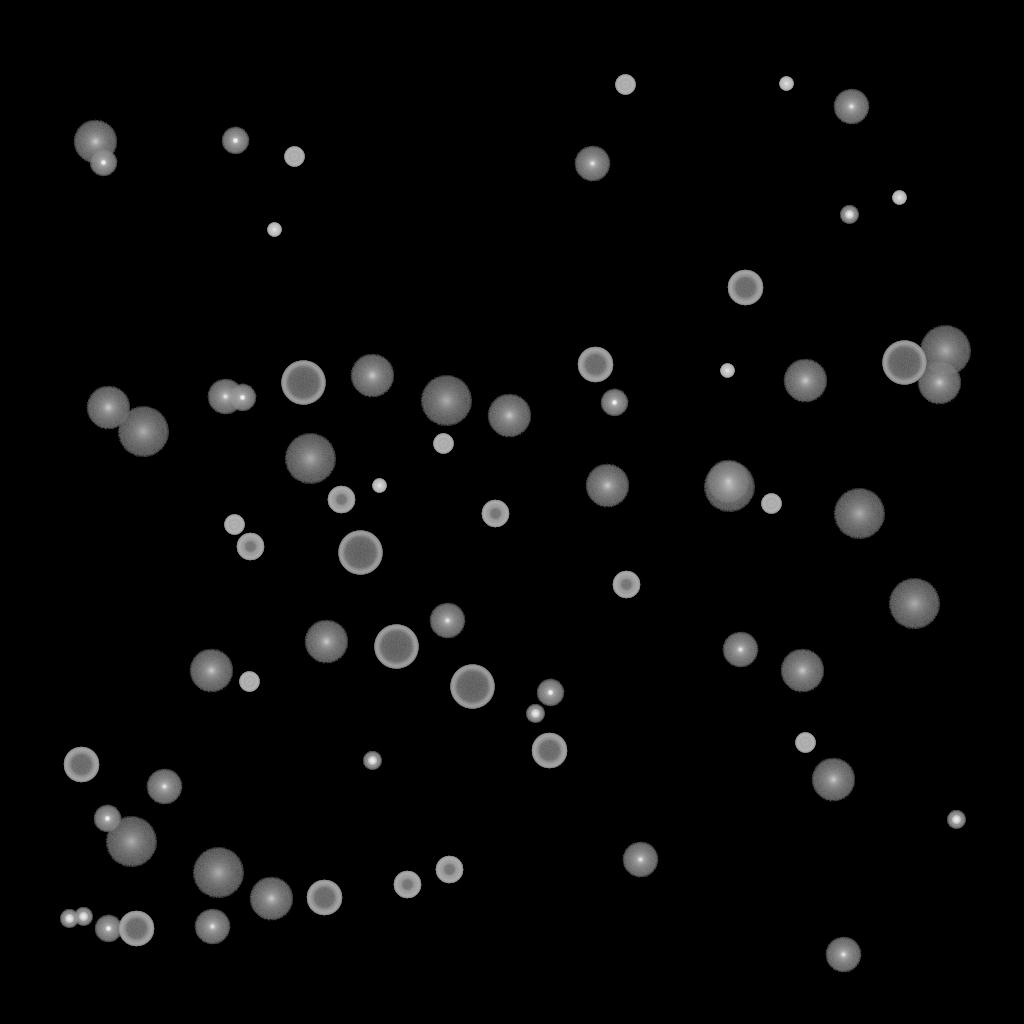depth:-10: (89, 149, 117, 177), (228, 384, 256, 412), (600, 389, 628, 417), (221, 127, 249, 155), (93, 805, 121, 833), (94, 915, 122, 943), (536, 679, 564, 707)
depth:-20: (60, 910, 78, 928), (840, 206, 858, 224), (363, 752, 381, 770), (74, 908, 92, 926), (526, 705, 544, 723), (947, 811, 965, 829)
depth:-30: (720, 364, 734, 378), (372, 479, 386, 493), (267, 223, 281, 237), (779, 77, 793, 91), (892, 191, 906, 205)
depth:-40: (761, 494, 781, 514), (615, 75, 635, 95), (224, 515, 244, 535), (795, 733, 815, 753), (284, 147, 304, 167), (239, 672, 259, 692), (433, 434, 453, 454)
depth:-50: (236, 533, 264, 561), (327, 486, 355, 514), (393, 871, 421, 899), (435, 856, 463, 884), (612, 571, 640, 599), (481, 500, 509, 528)
depth:-60: (531, 733, 567, 769), (306, 880, 342, 916), (727, 270, 763, 306), (63, 747, 99, 783), (118, 911, 154, 947), (577, 347, 613, 383)
depth:-70: (450, 665, 494, 709), (338, 531, 382, 575), (882, 341, 926, 385), (281, 361, 325, 405), (374, 625, 418, 669)
depth:0: (622, 842, 658, 878), (722, 632, 758, 668), (574, 146, 610, 182), (194, 909, 230, 945), (833, 89, 869, 125), (825, 937, 861, 973), (429, 603, 465, 639), (207, 379, 243, 415), (146, 769, 182, 805)
depth:10: (304, 620, 348, 664), (73, 120, 117, 164), (249, 877, 293, 921), (811, 758, 855, 802), (706, 460, 750, 504), (487, 394, 531, 438), (86, 386, 130, 430), (917, 361, 961, 405), (189, 649, 233, 693), (783, 359, 827, 403), (350, 354, 394, 398), (780, 649, 824, 693), (585, 464, 629, 508)
depth:20: (833, 489, 885, 539), (117, 407, 169, 457), (192, 848, 244, 898), (420, 376, 472, 426), (888, 579, 940, 629), (703, 462, 755, 512), (105, 817, 157, 867), (284, 434, 336, 484), (919, 326, 971, 376)
